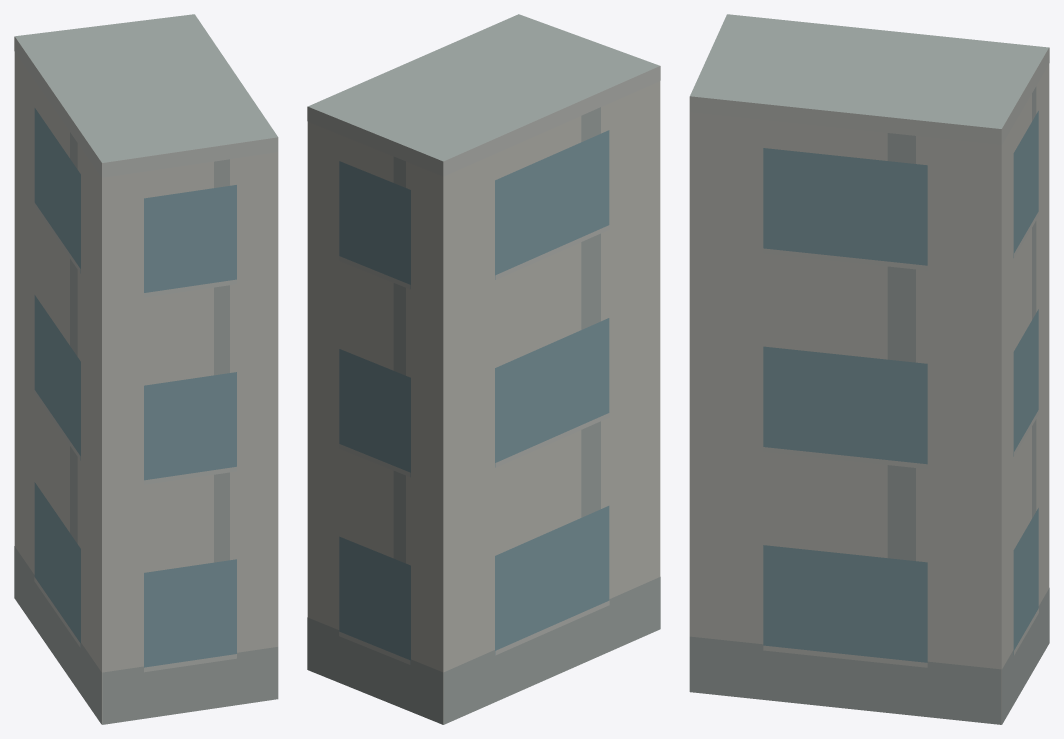
File: survey-upis-32527872.glb
The picture shows the model from 3 angles, left to right: view 1: azimuth 30°, elevation 25°; view 2: azimuth 150°, elevation 25°; view 3: azimuth 270°, elevation 25°; orthographic projection. The views are drawn at different scales.
Parts seen in each view (by area): view 1: survey-upis-32527872.tmp; view 2: survey-upis-32527872.tmp; view 3: survey-upis-32527872.tmp.
Boxes of the visible parts, x1,y1,x2,y2 form: survey-upis-32527872.tmp: (14, 14, 278, 724); survey-upis-32527872.tmp: (307, 14, 660, 724); survey-upis-32527872.tmp: (689, 14, 1049, 724).
Bounding box in the file's own units: 3.8 × 9.15 × 5.01.
